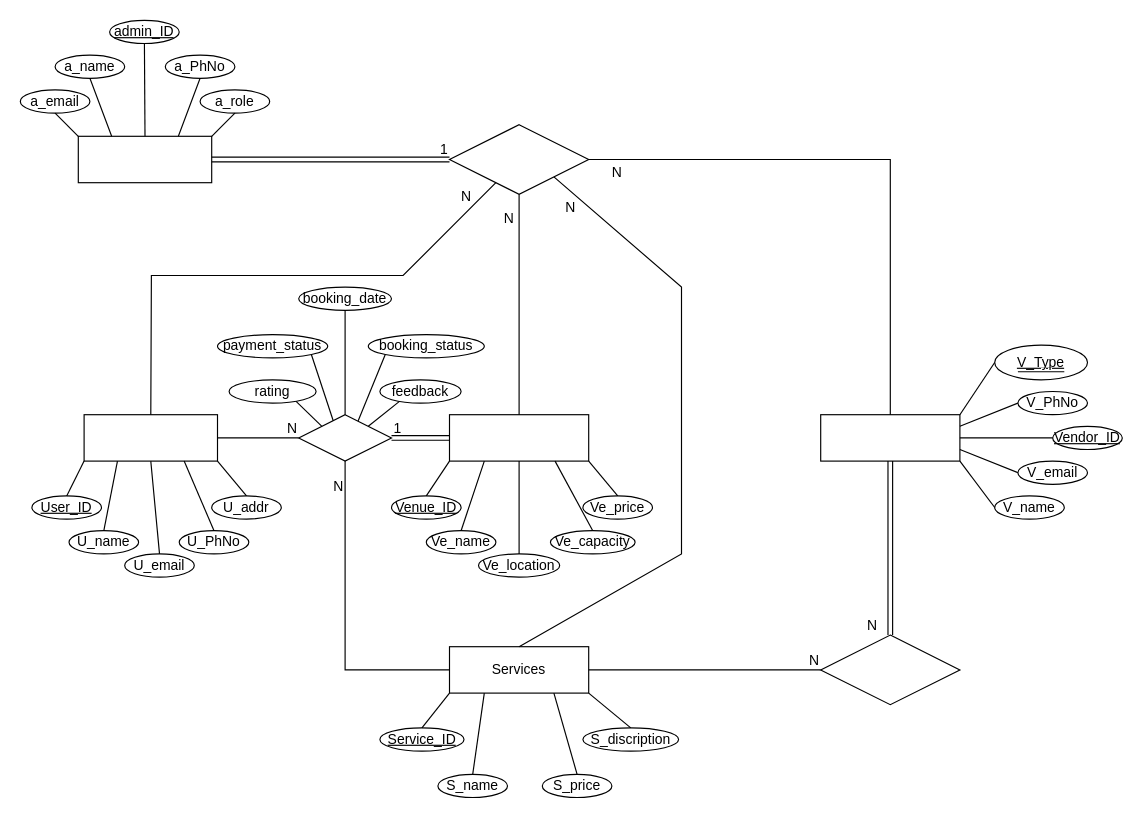
Image size: 1143x818. Some labels were removed from this diagram. Each missing label, with the centre of its shape:
"Admin" belongs at [144,159].
"Manages" belongs at [518,159].
"Provides" belongs at [890,669].
"Reserves" belongs at [345,437].
"User" belongs at [150,437].
"Vendor" belongs at [890,437].
"Venue" belongs at [518,437].
